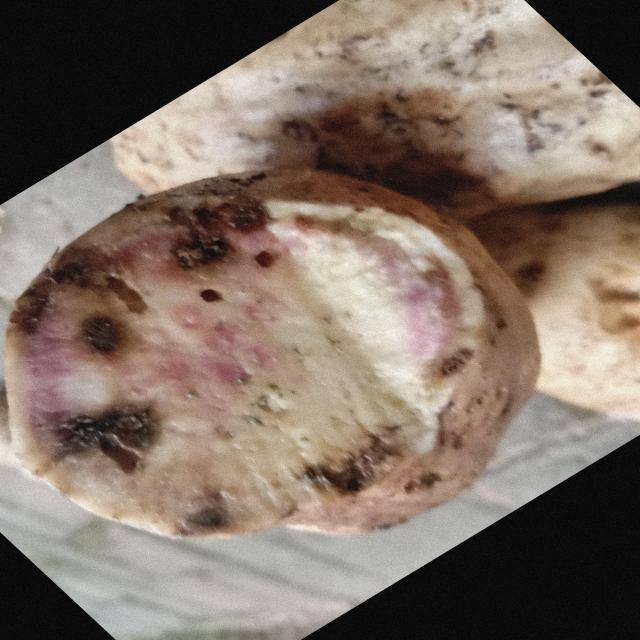Sick Sweet Potato_Tuber Rot: (5, 171, 485, 536)
